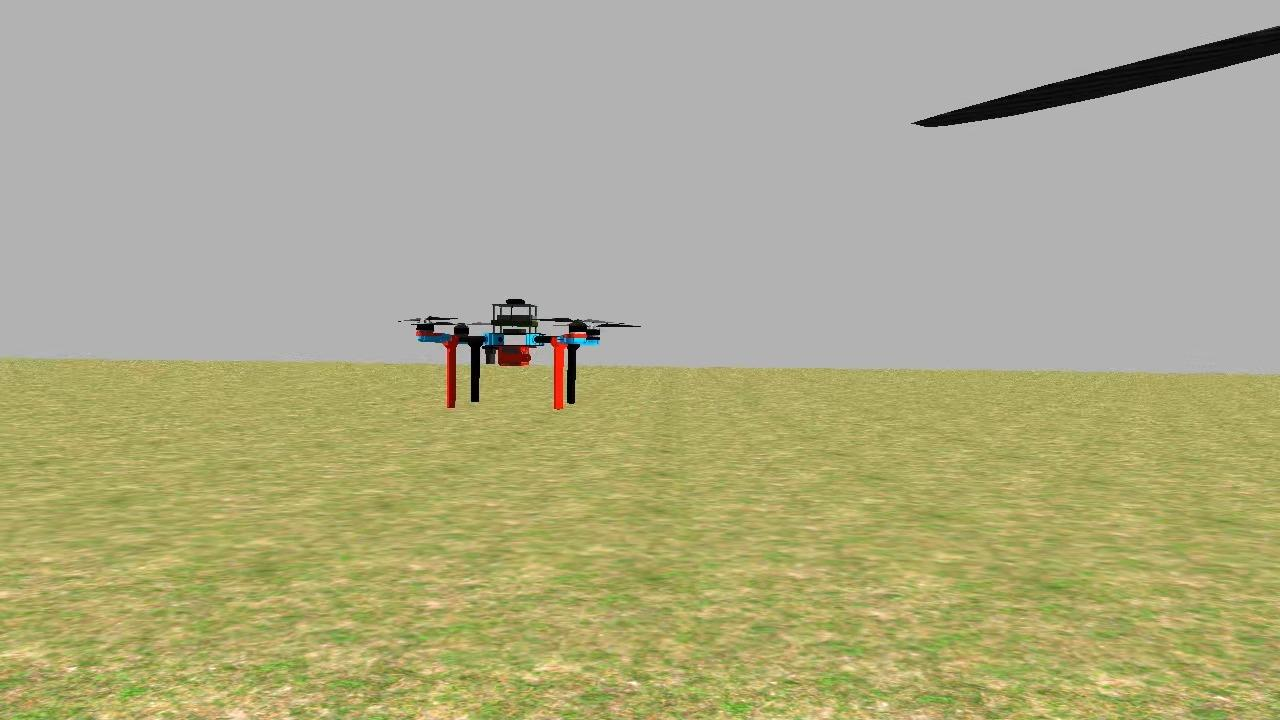UAV: (404, 292, 620, 415)
